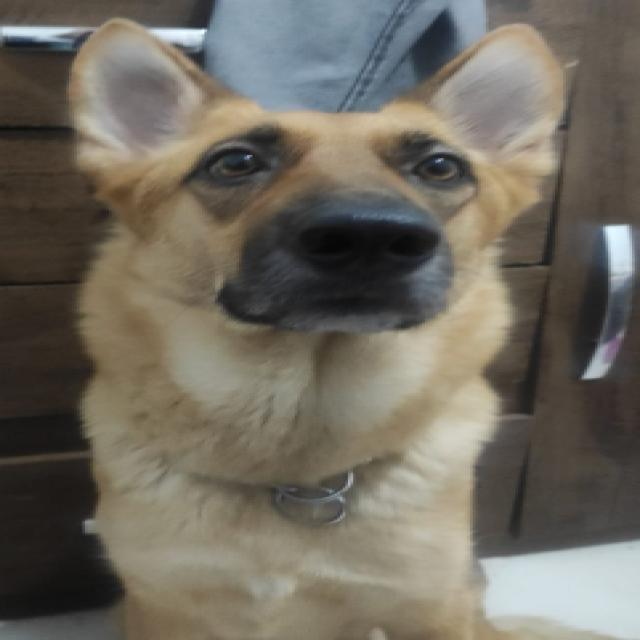cachorro: (43, 20, 569, 640)
